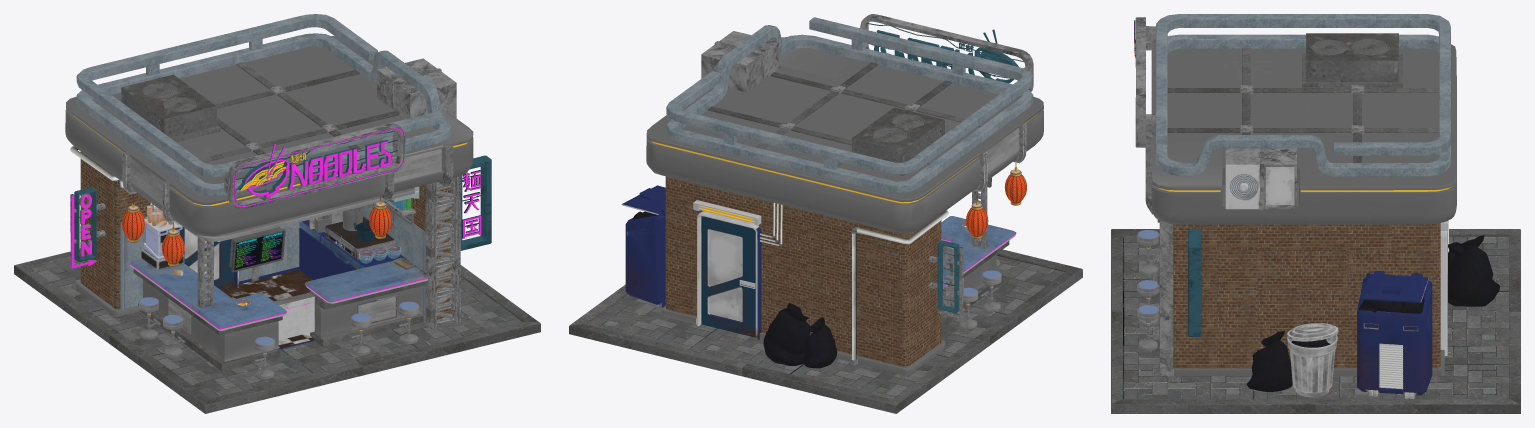
Rendered from kiosk.glb.
3 views of the same model, side by side, from view 1: azimuth 30°, elevation 25°; view 2: azimuth 150°, elevation 25°; view 3: azimuth 270°, elevation 25° (orthographic). The views are drawn at different scales.
Visible parts, largest first — view 1: geo_Kiosk_M_TrimSheet_0, geo_Kiosk_M_UniqueAssets_0; view 2: geo_Kiosk_M_TrimSheet_0, geo_Kiosk_M_UniqueAssets_0, geo_Garbadge_Bin_M_UniqueAssets_0; view 3: geo_Kiosk_M_TrimSheet_0, geo_Kiosk_M_UniqueAssets_0, geo_Garbadge_Bin_M_UniqueAssets_0.
Part boxes in pixels (x1,y1,x2,y2): geo_Kiosk_M_TrimSheet_0: (14, 14, 540, 413); geo_Kiosk_M_UniqueAssets_0: (122, 186, 427, 379); geo_Kiosk_M_TrimSheet_0: (569, 14, 1082, 413); geo_Kiosk_M_UniqueAssets_0: (621, 162, 1026, 340); geo_Garbadge_Bin_M_UniqueAssets_0: (633, 211, 837, 368); geo_Kiosk_M_TrimSheet_0: (1111, 14, 1520, 413); geo_Kiosk_M_UniqueAssets_0: (1137, 164, 1447, 398); geo_Garbadge_Bin_M_UniqueAssets_0: (1246, 235, 1499, 397).
Size of the model in its own units: 5.98 by 4.15 by 5.81.
2 materials, 2 textured.
